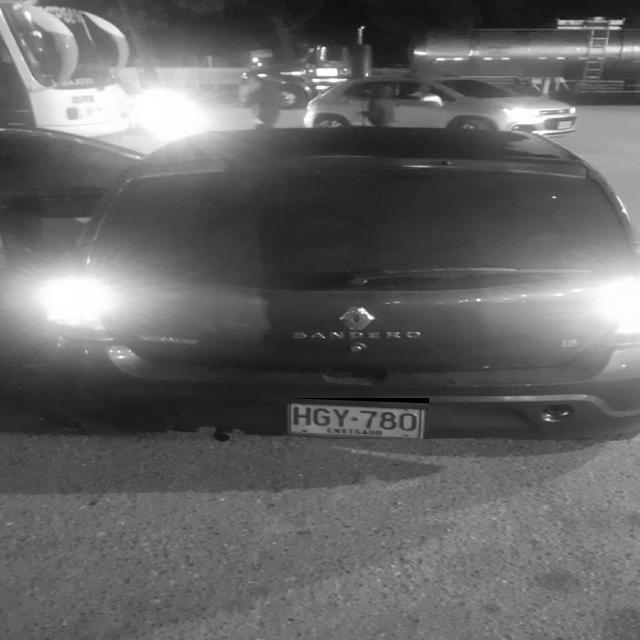plate: (283, 399, 429, 439)
